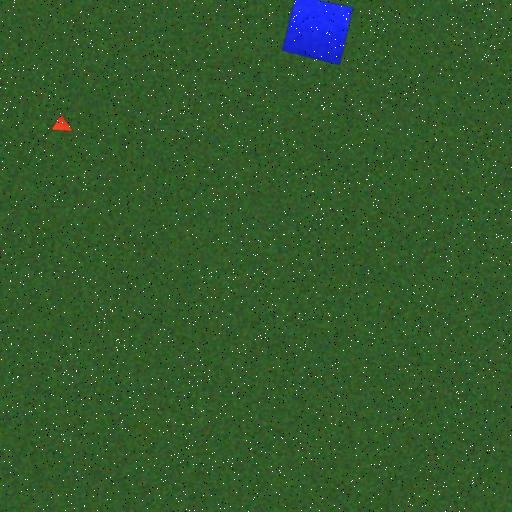BLUE_SQUARE: (282, 0, 354, 66)
